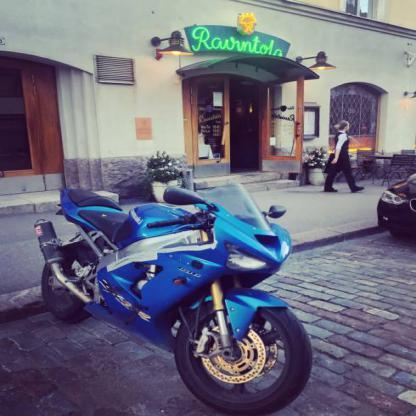Motorcycle: (27, 165, 320, 416)
